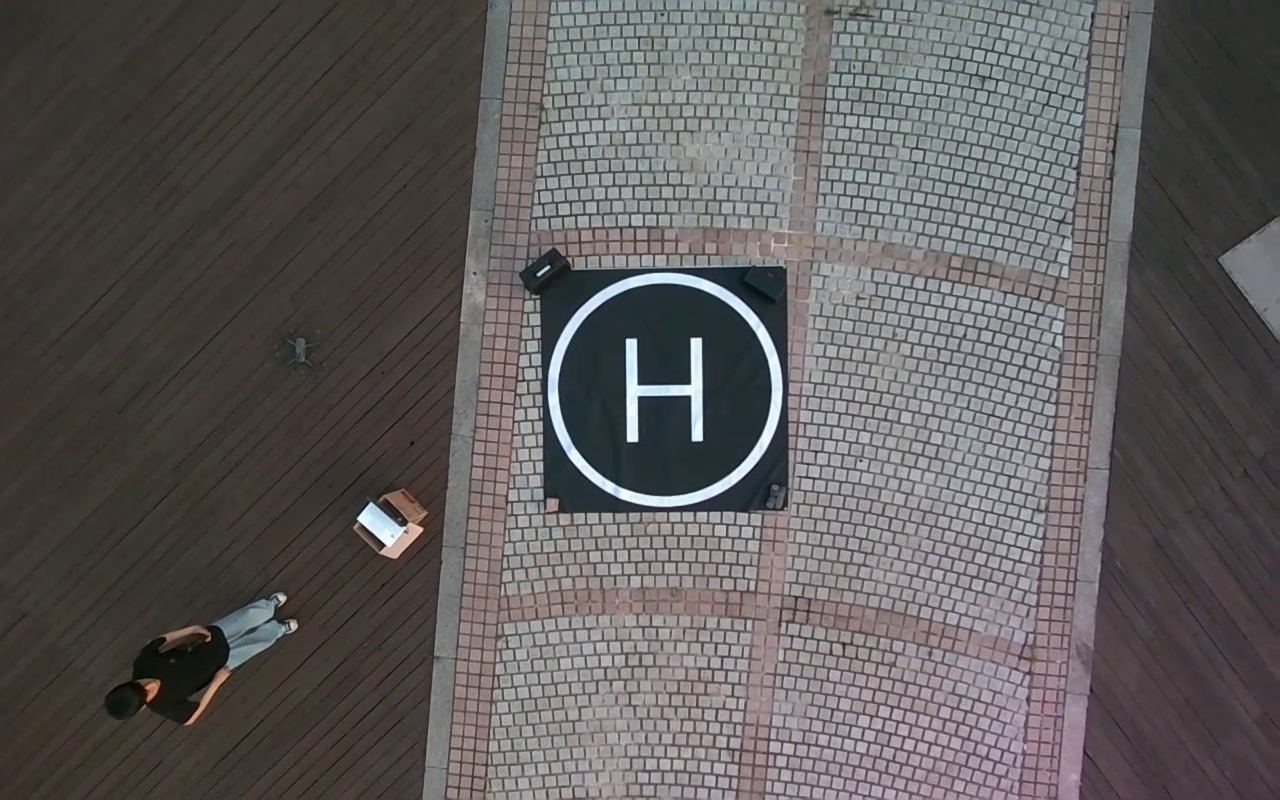H: (622, 336, 705, 443)
heliport: (547, 271, 783, 512)
